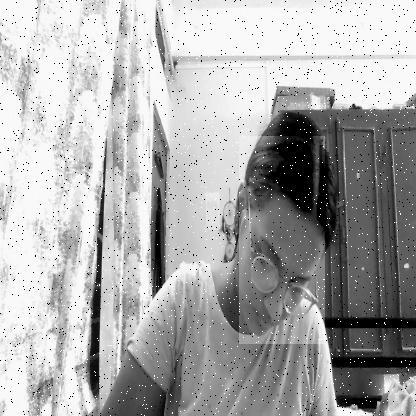Distracted: (239, 136, 325, 344)
